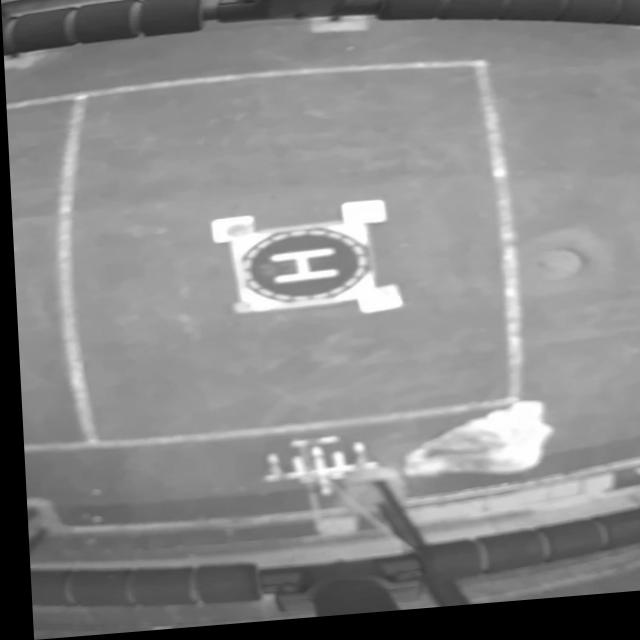Helipad: (265, 253, 335, 289)
